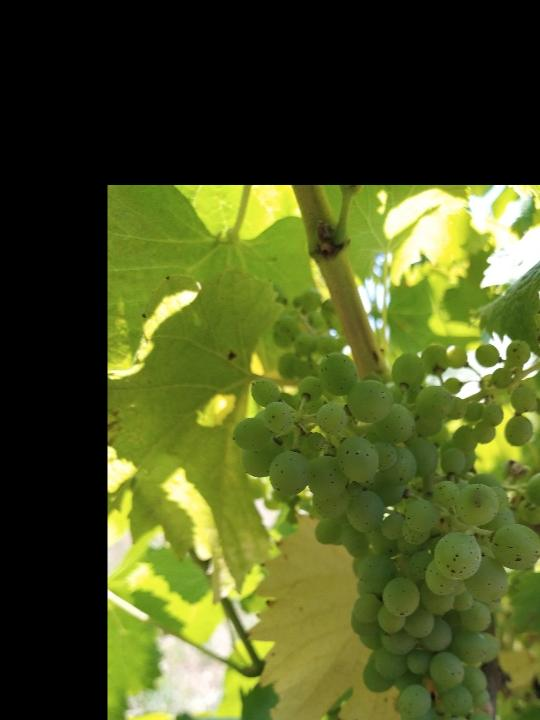grape: (233, 315, 540, 720)
